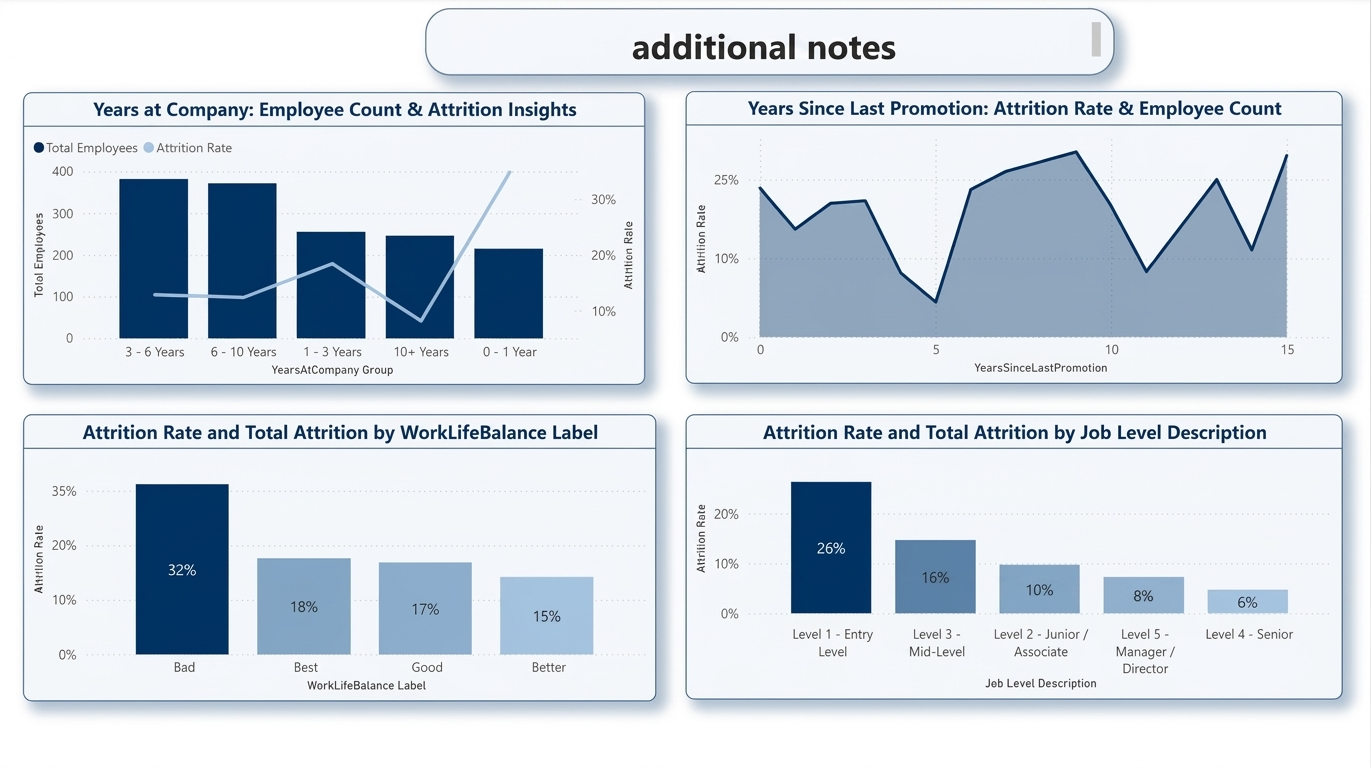

This screenshot's page, from the dashboard's own definition file:
{"tool":"powerbi","page":{"name":"additon notes","canvas":[1280,720],"ordinal":5},"visuals":[{"type":"lineStackedColumnComboChart","title":"Years at Company: Employee Count & Attrition Insights","fields":{"Category":["HrData.YearsAtCompany Group"],"Y2":["_calculations.Attrition Rate"],"Y":["_calculations.Total Employees"]},"box":[21.4,88.6,580,272.9],"z":0},{"type":"clusteredColumnChart","fields":{"Category":["HrData.Job Level Description"],"Y":["_calculations.Attrition Rate"]},"box":[640,388.6,612.9,265.7],"z":1000},{"type":"clusteredColumnChart","fields":{"Y":["_calculations.Attrition Rate"],"Category":["HrData.WorkLifeBalance Label"]},"box":[21.4,388.6,590,267.1],"z":2000},{"type":"textbox","box":[396.5,9.7,642.8,62.6],"z":3000},{"type":"lineChart","title":"Years Since Last Promotion: Attrition Rate & Employee Count","fields":{"Category":["HrData.YearsSinceLastPromotion"],"Y":["_calculations.Attrition Rate"]},"box":[640,87.1,612.9,272.9],"z":4000}]}

Visuals, with their boxes in screenshot pixels (x1, y1, x2, y2), scaled from the page's 1280x720 canvas onto the 1371x768 screenshot:
"Years at Company: Employee Count & Attrition Insights" lineStackedColumnComboChart: pyautogui.locateOnScreen(23, 95, 644, 386)
clusteredColumnChart - HrData.Job Level Description x _calculations.Attrition Rate: pyautogui.locateOnScreen(686, 415, 1342, 698)
clusteredColumnChart - _calculations.Attrition Rate x HrData.WorkLifeBalance Label: pyautogui.locateOnScreen(23, 415, 655, 699)
textbox: pyautogui.locateOnScreen(425, 10, 1113, 77)
"Years Since Last Promotion: Attrition Rate & Employee Count" lineChart: pyautogui.locateOnScreen(686, 93, 1342, 384)
